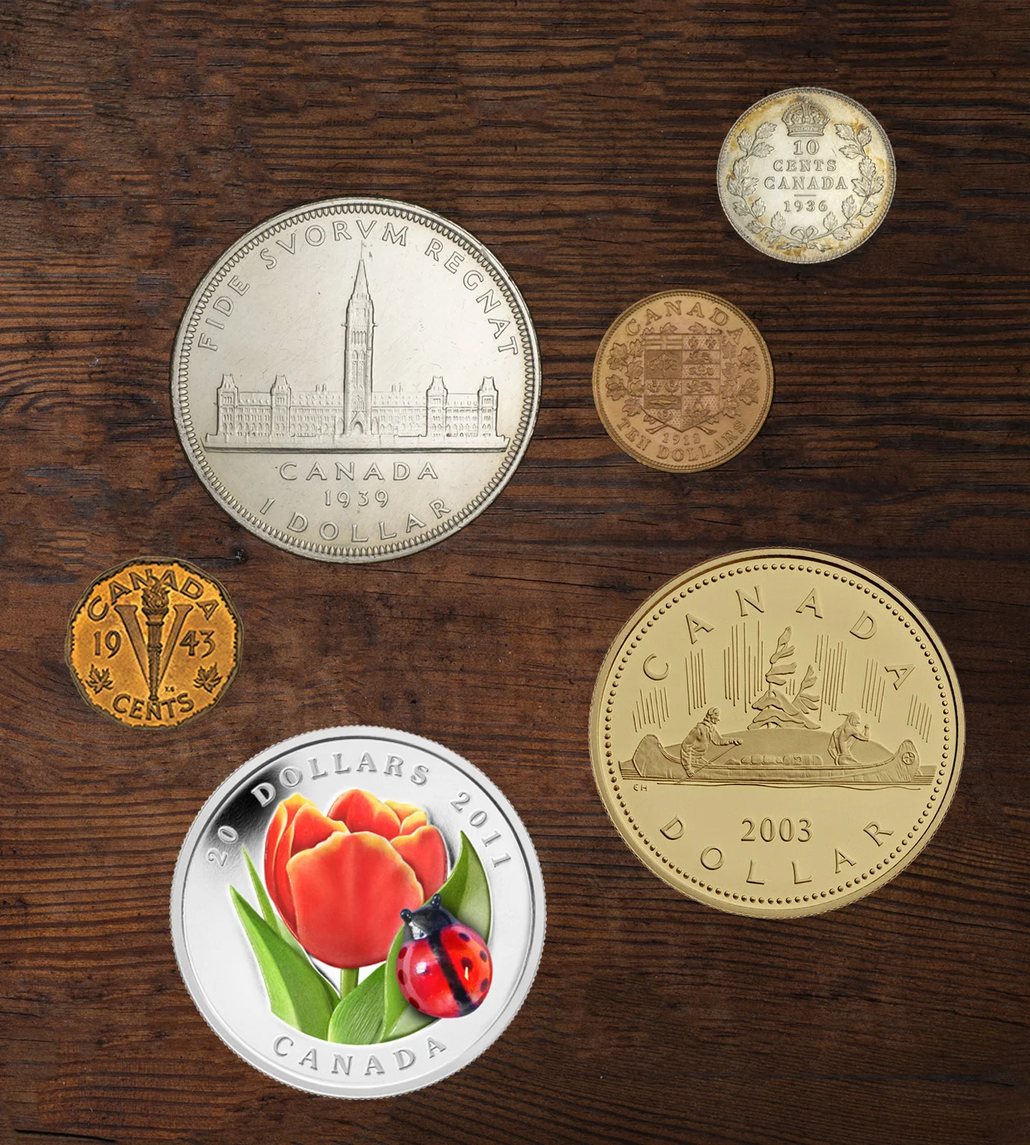coin: (171, 727, 544, 1097), (590, 549, 963, 917), (172, 198, 540, 561), (593, 290, 772, 472), (717, 88, 894, 263), (66, 558, 240, 727)
